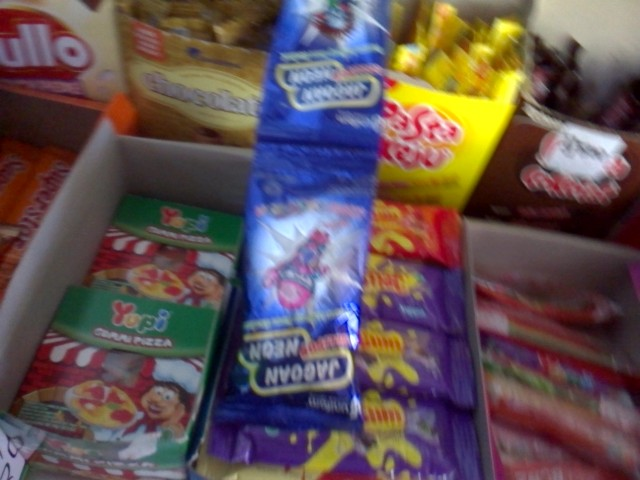jagoan neon: (216, 139, 381, 431), (254, 1, 390, 156)
